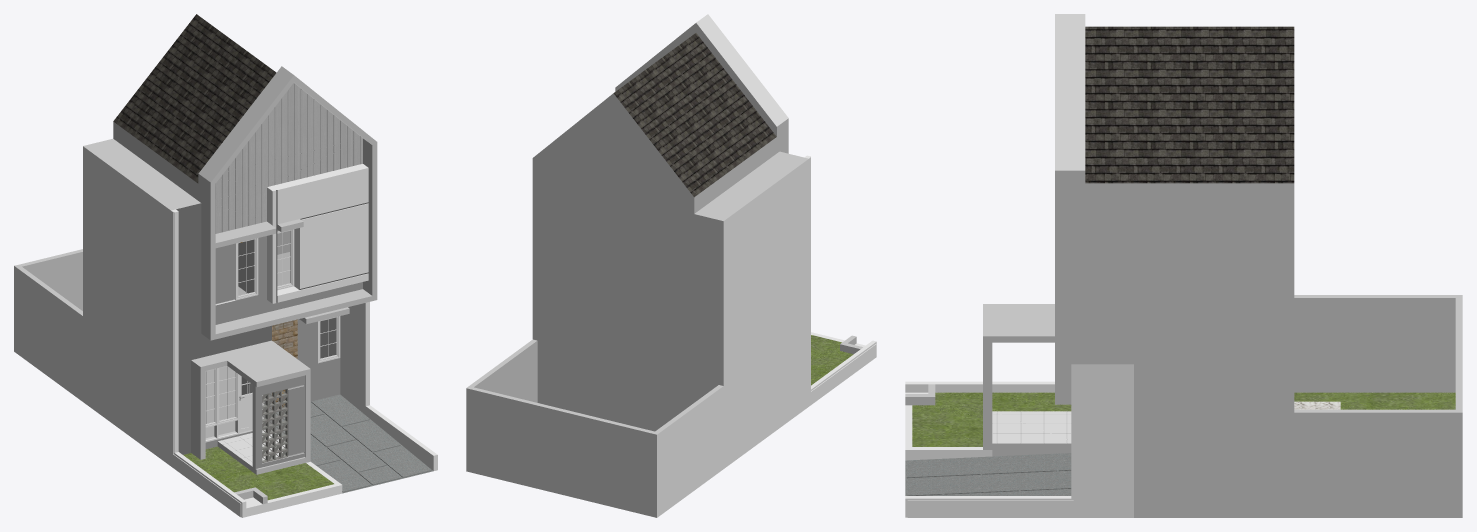
File: 1-rumah-hunian-skandinavian-type-46-2-lantai.glb
3 renders of one model, left to right at view 1: azimuth 30°, elevation 25°; view 2: azimuth 150°, elevation 25°; view 3: azimuth 270°, elevation 25°, orthographic. The views are drawn at different scales.
Parts seen in each view (by area): view 1: Component; view 2: Component; view 3: Component.
Part boxes in pixels (left/top/right/bottom): Component: left=14, top=14, right=437, bottom=517; Component: left=466, top=14, right=876, bottom=517; Component: left=905, top=14, right=1462, bottom=517.
Bounding box in the file's own units: 6 × 10.79 × 12.
18 materials, 8 textured.
